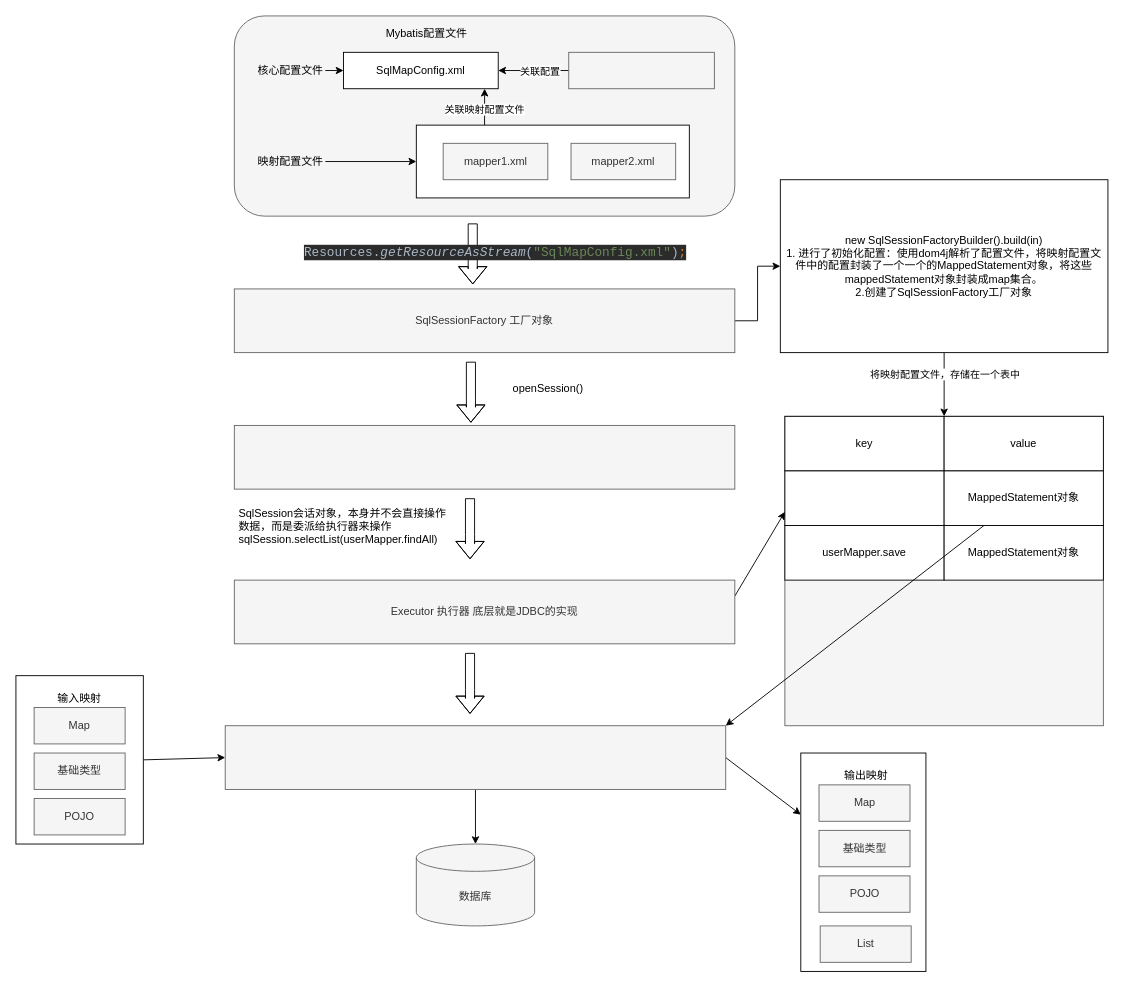
This 1124x987 diagram has some shape labels left out. Here are the shapes that lost their labels. From the top down, the centre of each, then its label:
At point (641, 70): "properties 文件:数据库信息".
At point (484, 457): "SqlSession 会话对象".
At point (864, 498): "userMapper.findAll".
At point (475, 757): "MappedStatement 对象".
